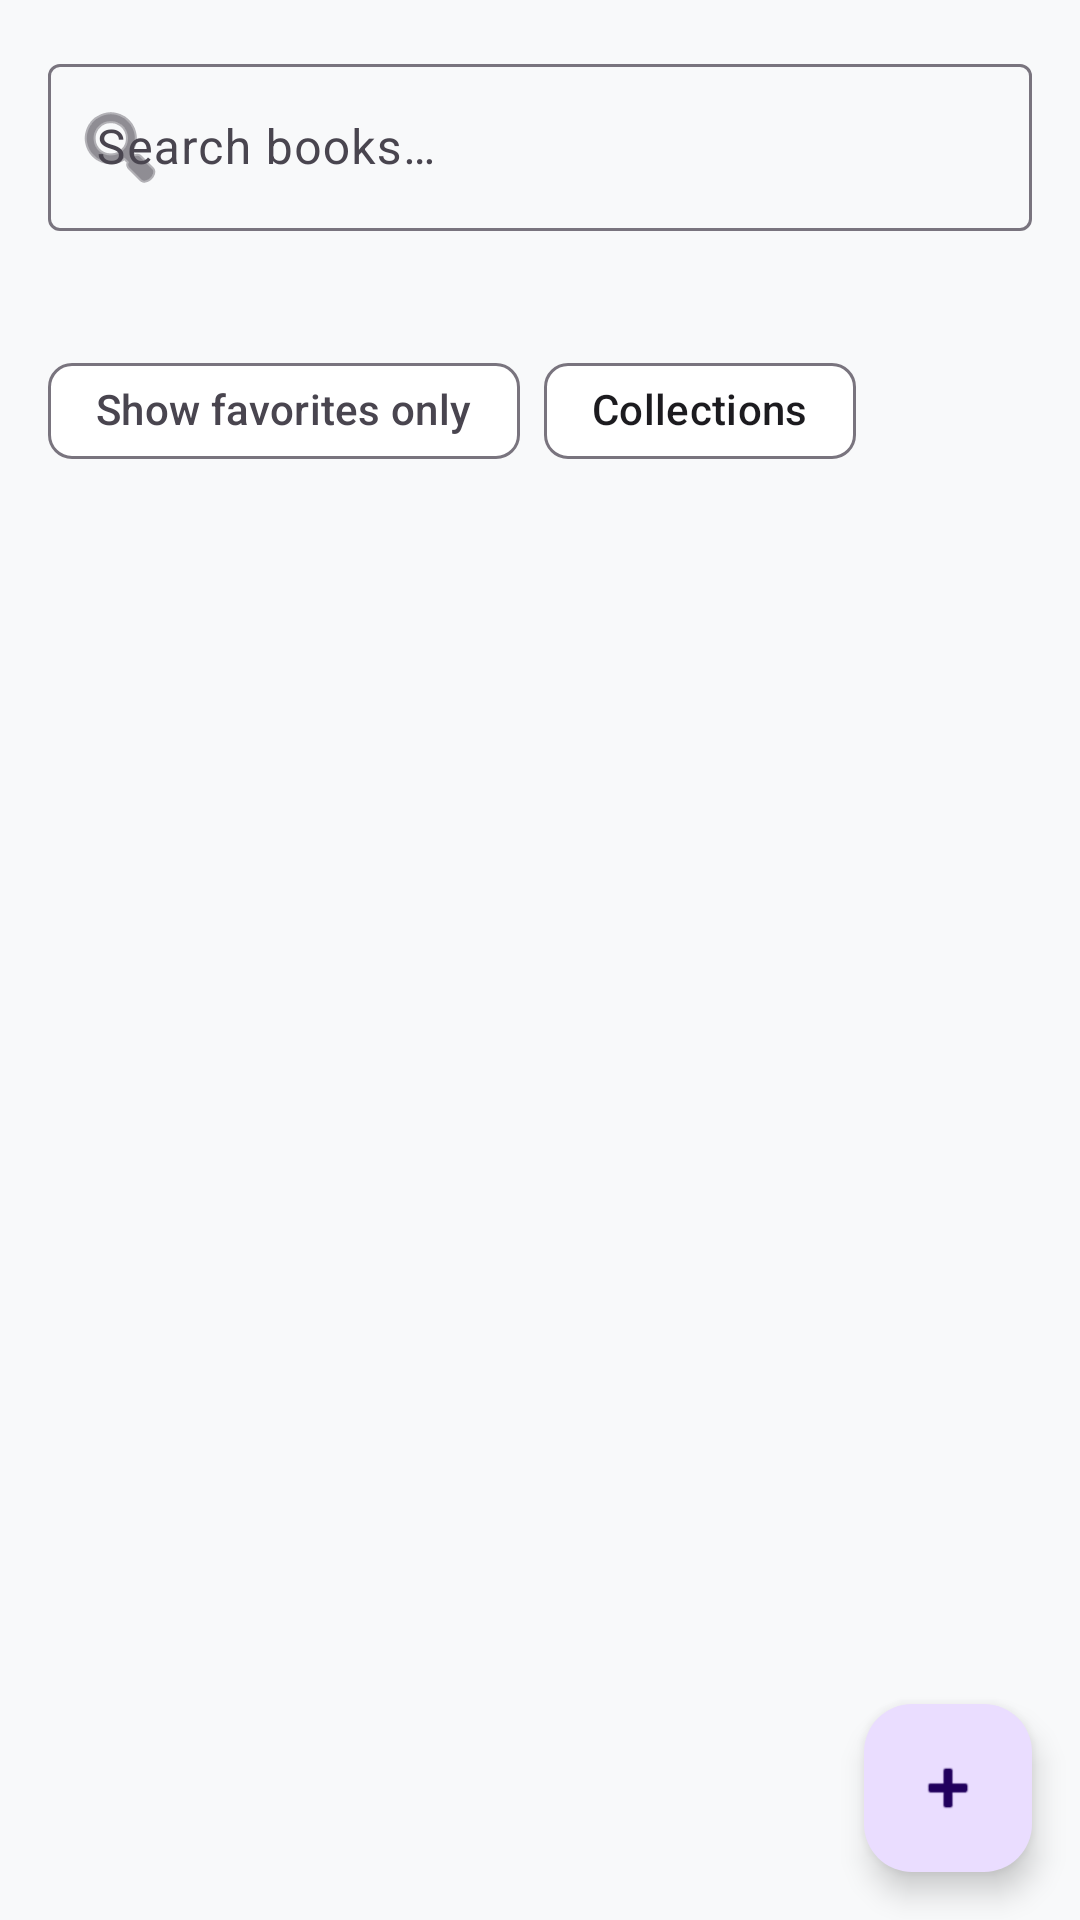

Screen size 1080w x 1920h. Icon name, then its box in pixels as detection(x1, y1, x2, y2):
Add books: detection(864, 1704, 1032, 1872)
